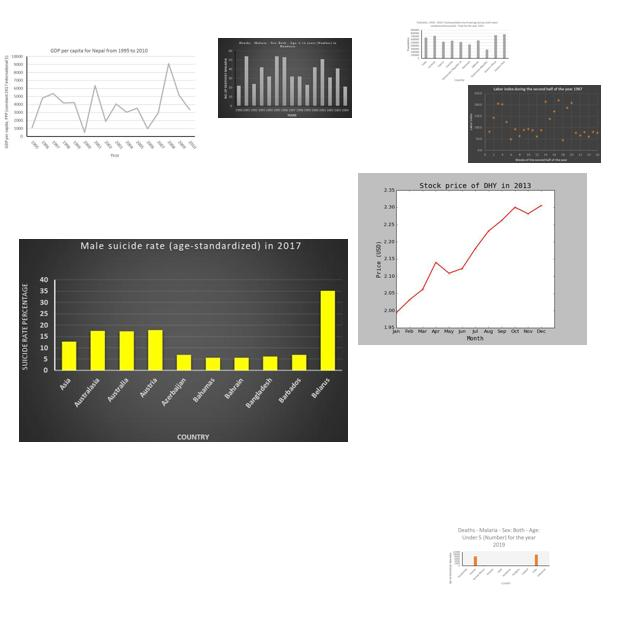Graph: (19, 239, 348, 442), (358, 173, 587, 345), (1, 45, 198, 159), (218, 38, 352, 118), (468, 85, 601, 163), (446, 525, 552, 588), (404, 20, 510, 82)
